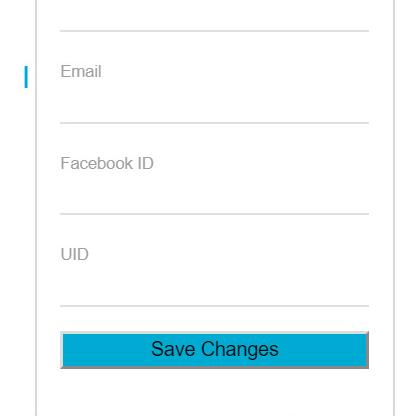button: (58, 330, 371, 374)
field_line: (57, 154, 368, 218), (56, 63, 371, 126), (58, 247, 368, 308)
